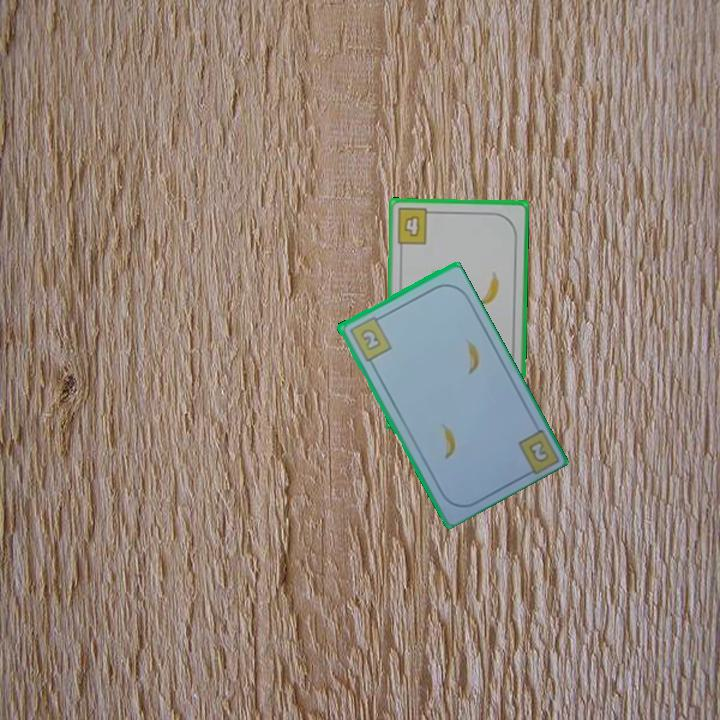2b: (345, 312, 394, 364), (524, 436, 552, 465)
4b: (393, 205, 437, 247)
